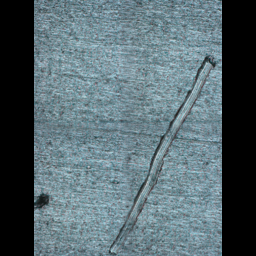d: (106, 52, 216, 255)
